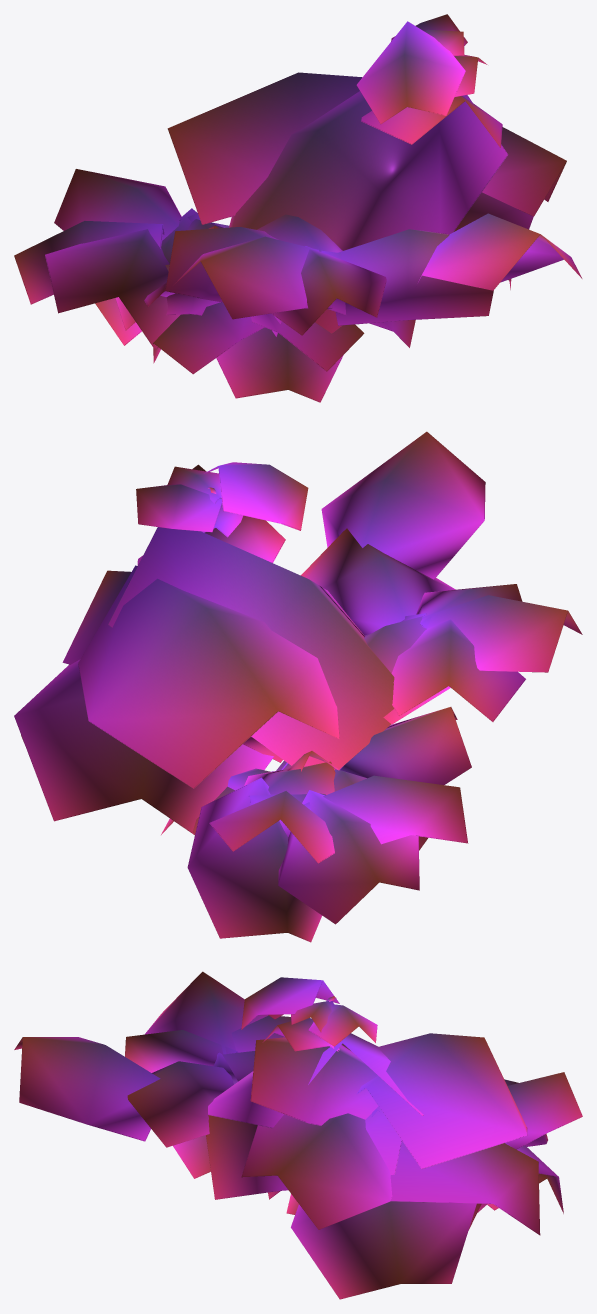
Rendered from leaf02.obj.
3 renders of one model, top to bottom at view 1: azimuth 30°, elevation 25°; view 2: azimuth 150°, elevation 25°; view 3: azimuth 270°, elevation 25°, orthographic. The views are drawn at different scales.
Visible parts, largest first — view 1: test:objdefault_Untitled.007; view 2: test:objdefault_Untitled.007; view 3: test:objdefault_Untitled.007.
Part boxes in pixels (box(x1,y1,x2,y2)): test:objdefault_Untitled.007: box(14, 14, 582, 402); test:objdefault_Untitled.007: box(14, 431, 582, 942); test:objdefault_Untitled.007: box(14, 971, 582, 1299).
Size of the model in its own units: 11.45 by 8.73 by 14.19.
